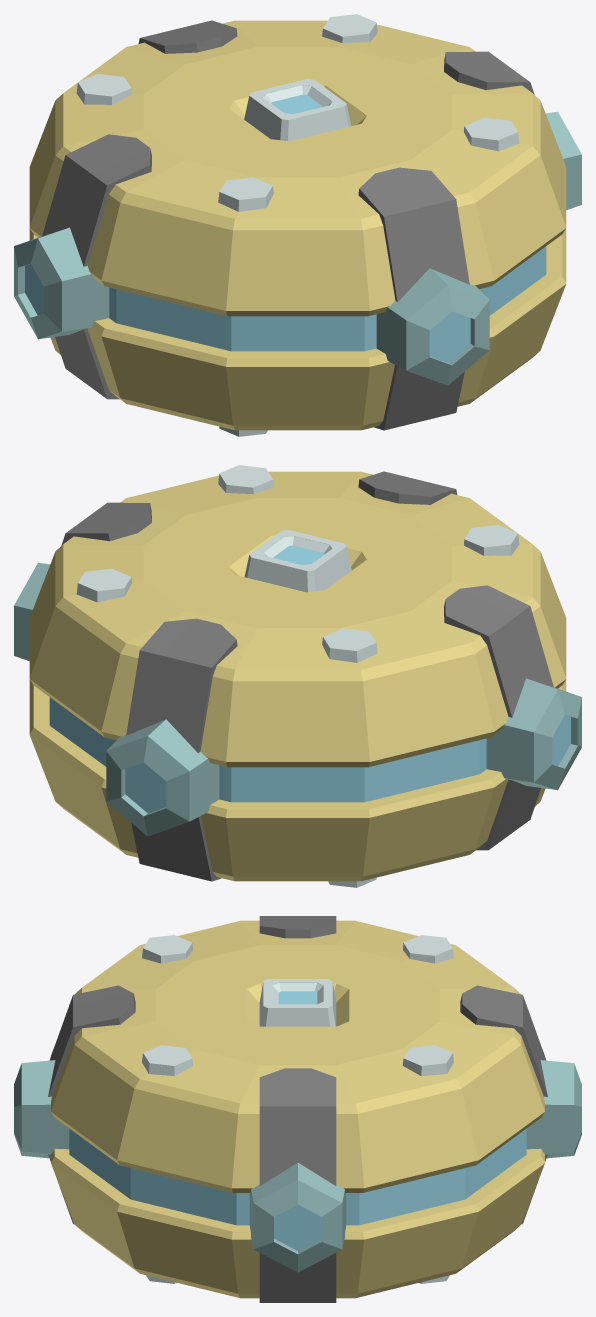
File: GunnerShield.fbx
3 views of the same model, one above another, from view 1: azimuth 30°, elevation 25°; view 2: azimuth 150°, elevation 25°; view 3: azimuth 270°, elevation 25° (orthographic). The views are drawn at different scales.
Parts seen in each view (by area): view 1: Cylinder; view 2: Cylinder; view 3: Cylinder.
Part boxes in pixels (left/top/right/bottom): Cylinder: left=14, top=14, right=581, bottom=436; Cylinder: left=14, top=465, right=581, bottom=887; Cylinder: left=14, top=916, right=581, bottom=1302.
Bounding box in the file's own units: 2.22 × 0.9776 × 2.22.
